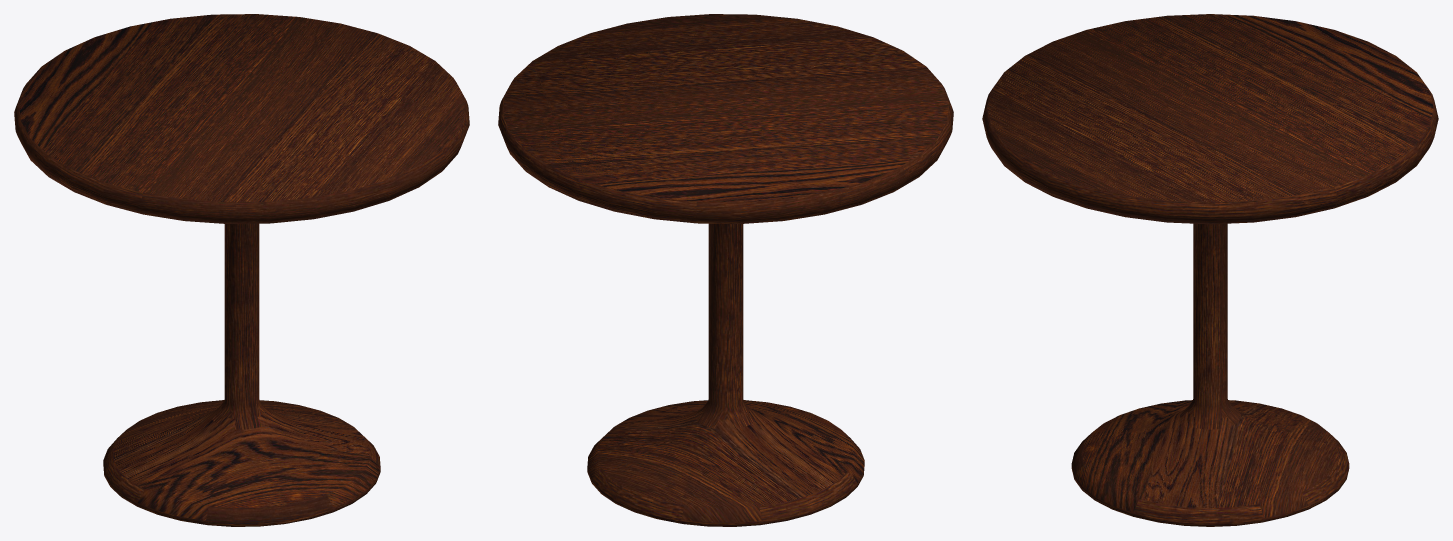
File: mesita.fbx
The picture shows the model from 3 angles, left to right: view 1: azimuth 30°, elevation 25°; view 2: azimuth 150°, elevation 25°; view 3: azimuth 270°, elevation 25°; orthographic projection.
Parts seen in each view (by area): view 1: mesita; view 2: mesita; view 3: mesita.
Boxes of the visible parts, x1,y1,x2,y2 form: mesita: (14,14,469,526); mesita: (498,14,953,526); mesita: (982,14,1438,526).
Bounding box in the file's own units: 1.77 × 1.56 × 1.77.
Materials: 1 (1 with a texture image).
